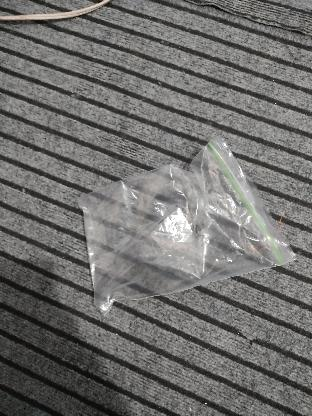Plastic Bag: (78, 136, 294, 314)
